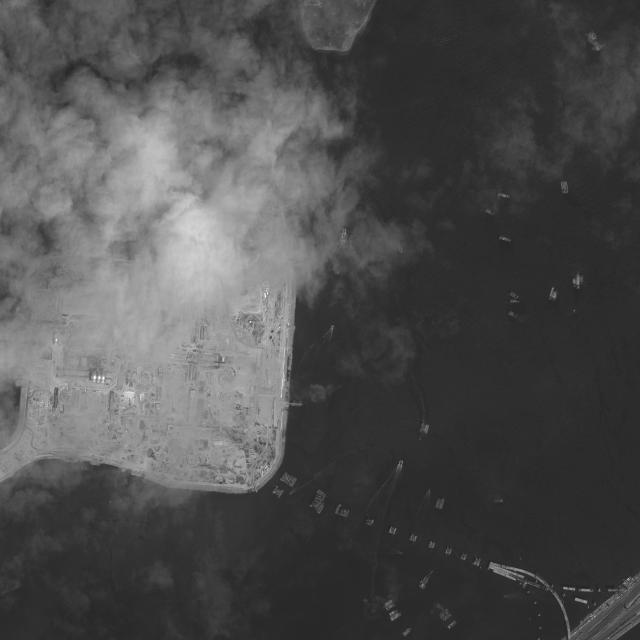ship: (419, 577, 429, 589), (390, 611, 401, 621), (548, 287, 555, 300), (383, 599, 393, 608), (402, 627, 411, 637), (438, 608, 448, 617), (447, 620, 457, 629), (385, 603, 395, 611), (509, 291, 519, 299), (485, 208, 495, 216), (442, 613, 452, 621), (499, 236, 512, 242), (560, 181, 566, 194), (419, 423, 426, 434), (423, 424, 430, 435), (498, 193, 510, 199), (508, 311, 518, 318), (576, 273, 580, 290), (552, 290, 558, 301), (564, 181, 569, 194), (389, 609, 398, 616), (440, 612, 449, 619), (435, 499, 441, 508), (80, 466, 90, 471), (439, 499, 444, 509), (571, 277, 576, 287), (398, 246, 404, 254), (580, 275, 584, 284), (510, 299, 519, 303), (493, 500, 504, 503), (399, 460, 403, 466), (397, 551, 403, 555), (503, 595, 510, 598), (427, 489, 430, 496), (423, 585, 426, 589), (440, 606, 443, 610), (298, 401, 303, 403), (331, 325, 334, 328), (587, 606, 589, 610), (419, 436, 421, 440), (573, 310, 575, 313), (497, 195, 499, 198), (420, 580, 422, 583), (520, 558, 521, 561), (480, 567, 481, 570)
